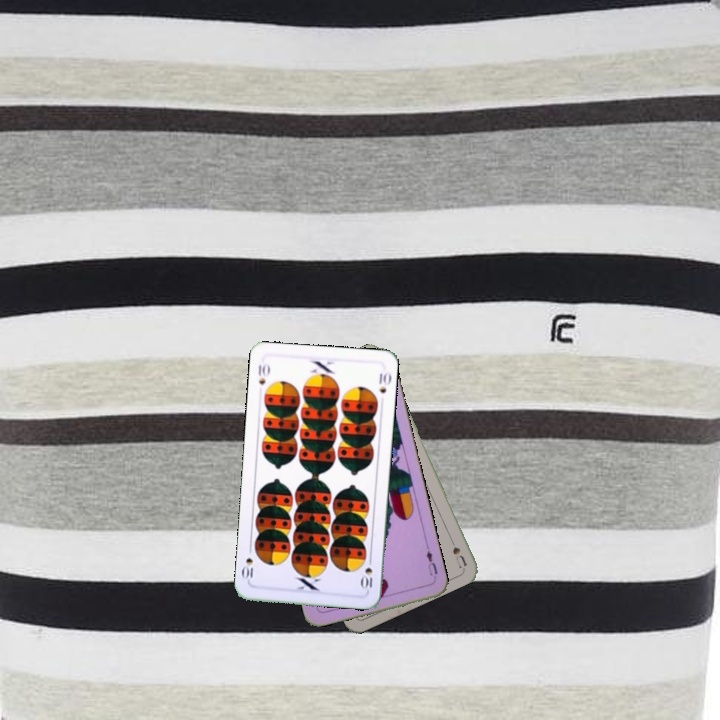EU: (422, 543, 440, 583)
S10: (358, 553, 375, 593), (254, 360, 272, 387)
SU: (444, 530, 469, 570)
